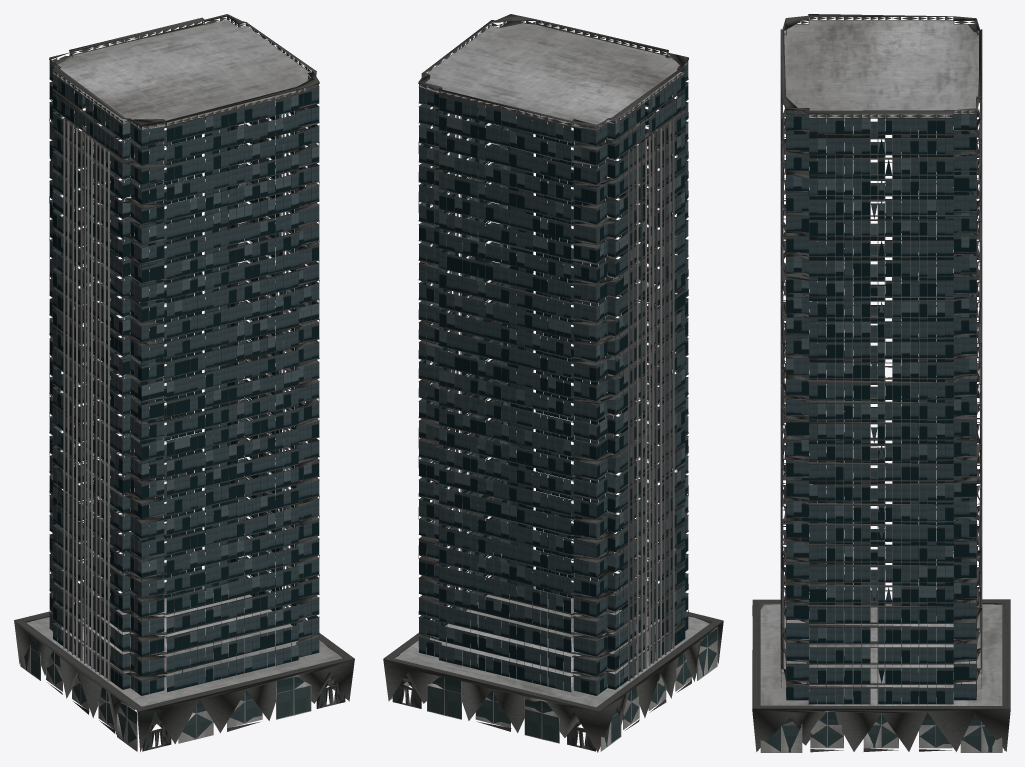
The model's file is glass-office.glb.
3 renders of one model, left to right at view 1: azimuth 30°, elevation 25°; view 2: azimuth 150°, elevation 25°; view 3: azimuth 270°, elevation 25°, orthographic. The views are drawn at different scales.
Visible parts, largest first — view 1: Glass_Office_building2; view 2: Glass_Office_building2; view 3: Glass_Office_building2.
Part boxes in pixels (left/top/right/bottom): Glass_Office_building2: left=14, top=14, right=354, bottom=751; Glass_Office_building2: left=383, top=14, right=723, bottom=752; Glass_Office_building2: left=752, top=14, right=1010, bottom=752.
Bounding box in the file's own units: 35.29 × 95.78 × 35.29.
Materials: 1 (1 with a texture image).
